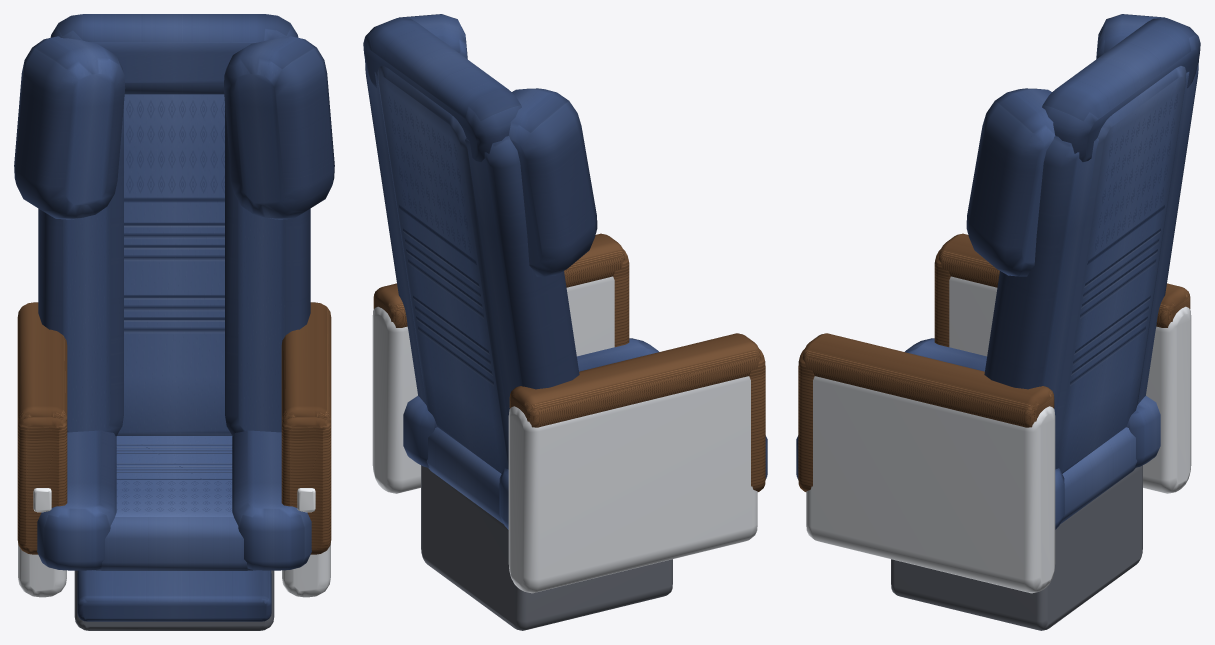
The model's file is seat_green.glb.
The picture shows the model from 3 angles, left to right: view 1: azimuth 30°, elevation 25°; view 2: azimuth 150°, elevation 25°; view 3: azimuth 270°, elevation 25°; orthographic projection. The views are drawn at different scales.
Parts seen in each view (by area): view 1: seat_green; view 2: seat_green; view 3: seat_green.
Part boxes in pixels (x1,y1,x2,y2): seat_green: (14,14,334,630); seat_green: (363,14,767,630); seat_green: (796,14,1200,630).
Bounding box in the file's own units: 0.7776 × 1.15 × 0.7668.
7 materials, 3 textured.
